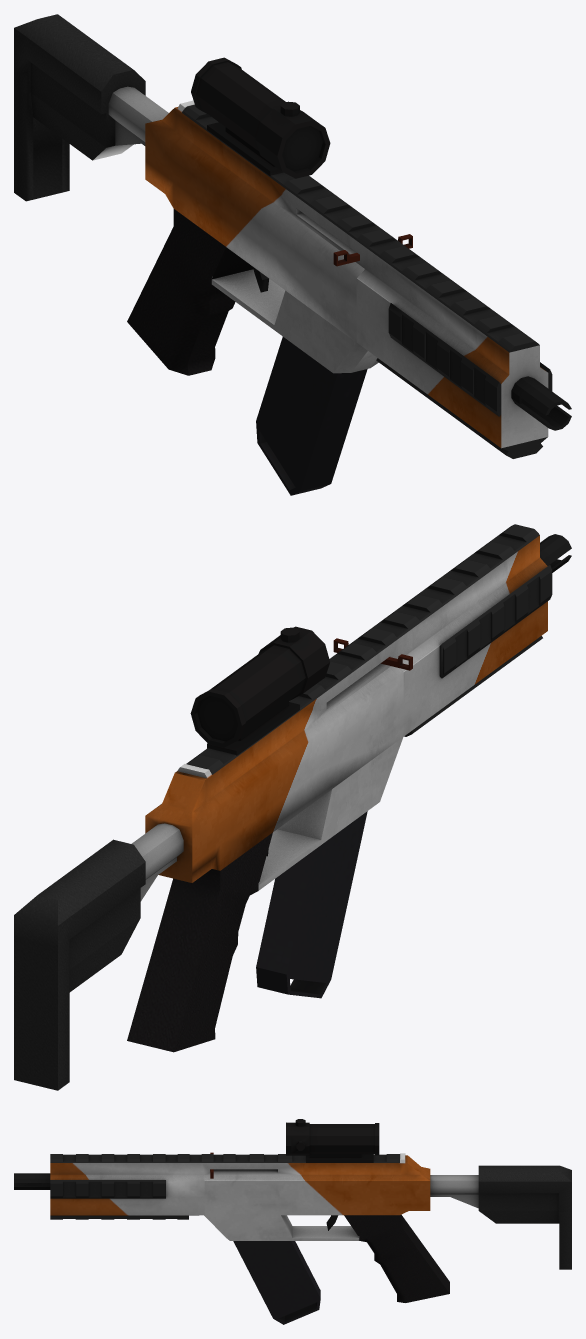
File: Carbine.fbx
3 renders of one model, top to bottom at view 1: azimuth 30°, elevation 25°; view 2: azimuth 150°, elevation 25°; view 3: azimuth 270°, elevation 25°, orthographic. The views are drawn at different scales.
Visible parts, largest first — view 1: Security_Carbine_Body, Security_Carbine_Magazine, Security_Carbine_CCO; view 2: Security_Carbine_Body, Security_Carbine_Magazine, Security_Carbine_CCO; view 3: Security_Carbine_Body, Security_Carbine_Magazine, Security_Carbine_CCO.
Part boxes in pixels (box(x1,y1,x2,y2)): Security_Carbine_Body: box(14, 14, 571, 458); Security_Carbine_Magazine: box(256, 336, 367, 495); Security_Carbine_CCO: box(191, 57, 330, 178); Security_Carbine_Body: box(14, 524, 571, 1090); Security_Carbine_Magazine: box(256, 811, 367, 998); Security_Carbine_CCO: box(190, 626, 329, 755); Security_Carbine_Body: box(14, 1153, 571, 1302); Security_Carbine_Magazine: box(233, 1241, 320, 1324); Security_Carbine_CCO: box(286, 1119, 379, 1162).
Bounding box in the file's own units: 0.6422 × 3.01 × 7.61.
